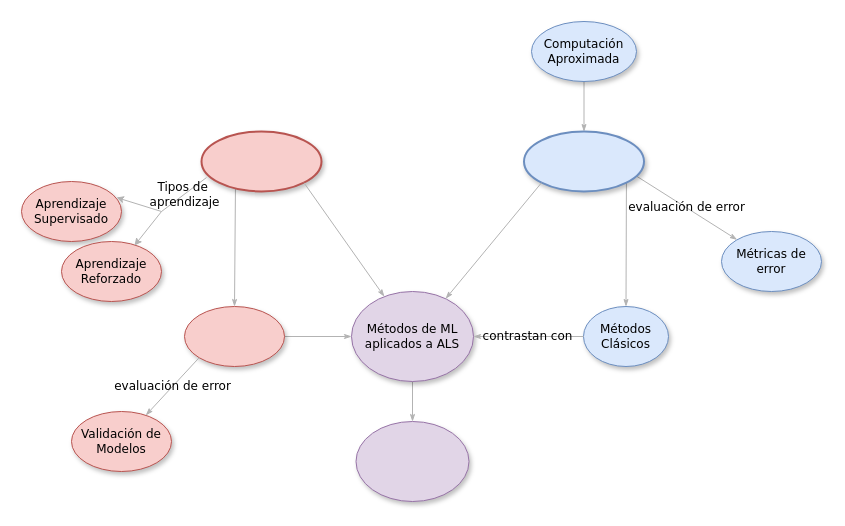
Some shapes in this 845 by 526 pixel diagram are drawn without their labels. The centre of each missing label's shape, as x and y in pixels:
Aprendizaje Automático: the point at 262,162
Modelos y técnicas: the point at 235,338
Síntesis de modelos de ML: the point at 413,462
Síntesis Lógica Aproximada: the point at 584,162
